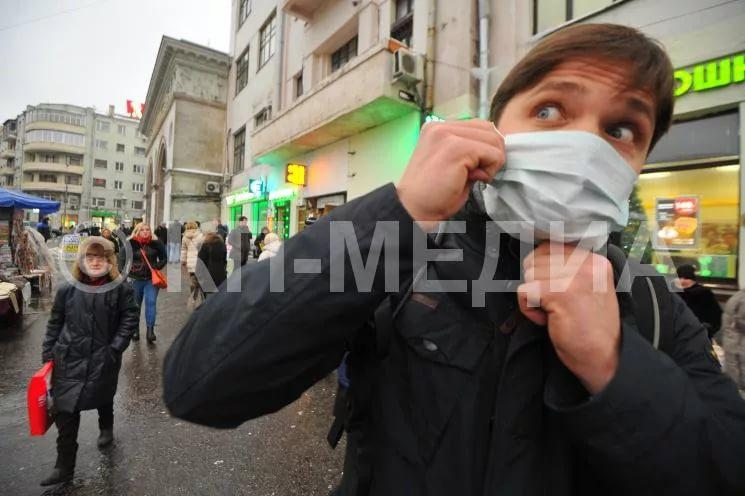mask: (485, 42, 651, 248)
none: (83, 243, 114, 277)
